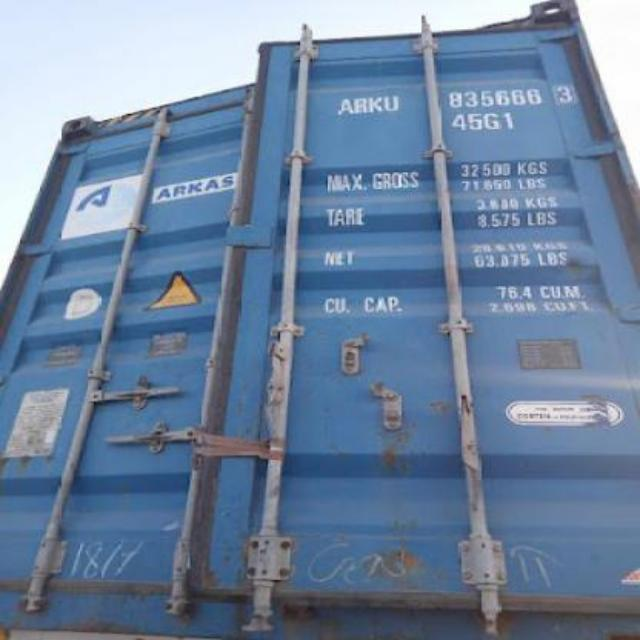3: (558, 87, 574, 103), (464, 90, 478, 108)
5: (481, 89, 494, 107)
6: (494, 90, 512, 106), (512, 88, 526, 108), (526, 90, 542, 102)
8: (446, 90, 464, 110)
A: (334, 97, 354, 117)
K: (371, 95, 384, 115)
R: (354, 97, 368, 113)
U: (382, 94, 400, 114)
